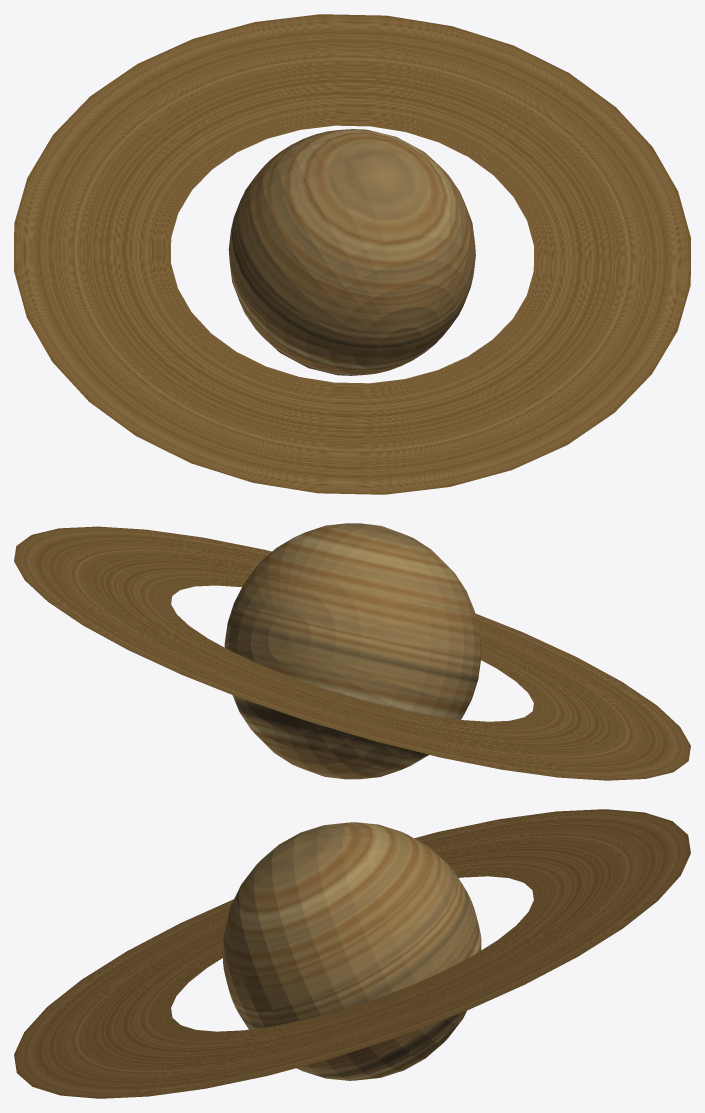
Rendered from Saturn.fbx.
3 renders of one model, top to bottom at view 1: azimuth 30°, elevation 25°; view 2: azimuth 150°, elevation 25°; view 3: azimuth 270°, elevation 25°, orthographic. The views are drawn at different scales.
Parts seen in each view (by area): view 1: Circle, Sphere; view 2: Circle, Sphere; view 3: Circle, Sphere.
Part boxes in pixels (x1,y1,x2,y2): Circle: [14, 14, 690, 494]; Sphere: [228, 129, 475, 375]; Circle: [14, 526, 690, 780]; Sphere: [224, 523, 480, 779]; Circle: [14, 809, 690, 1098]; Sphere: [223, 822, 481, 1080].
Size of the model in its own units: 1210 by 444 by 1161.
